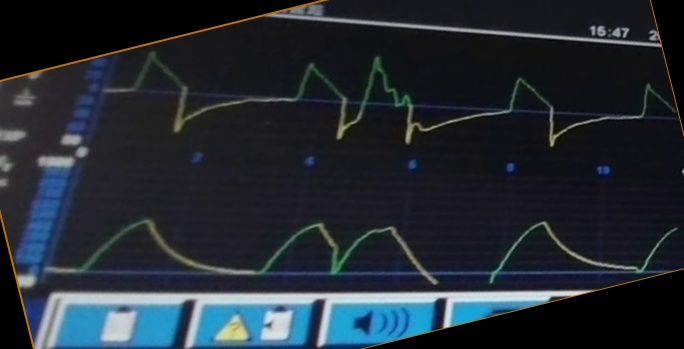Double_Triggering Flow: (125, 49, 672, 151)
Double_Triggering Volume: (67, 200, 677, 284)
